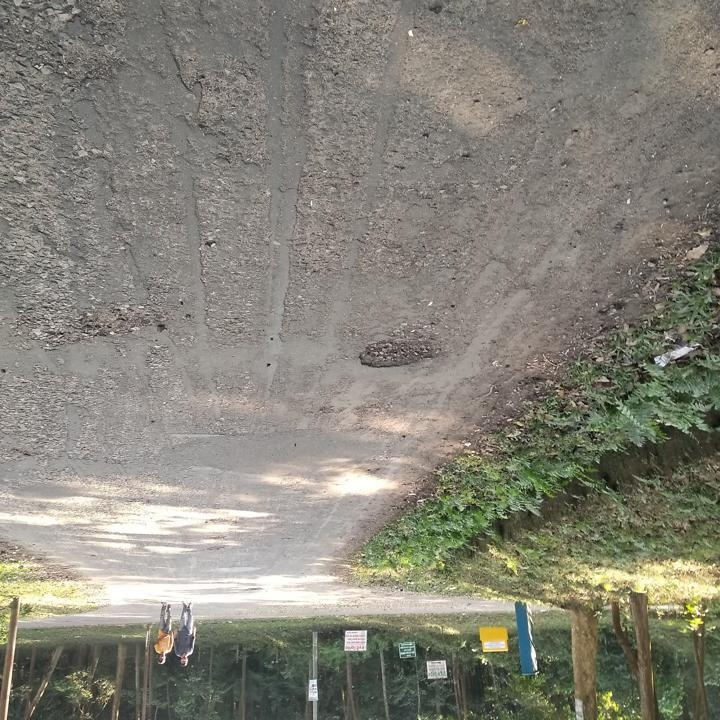pothole: (359, 320, 449, 374), (81, 301, 154, 340)
